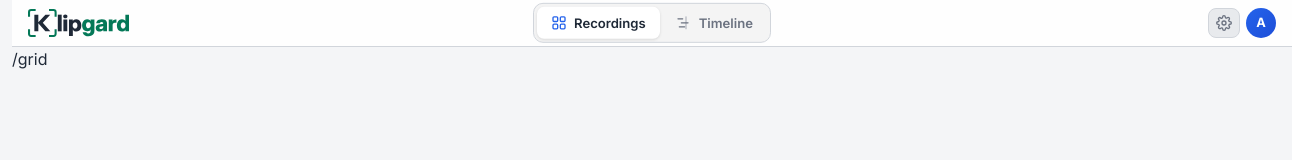
Scenario: Header nav [WEB-SHELL-071] › opens Settings from the gear and keeps Settings out of the account menu [WEB-SHELL-018]
Step 1. Click the button with test id "account-menu-button" → (1261, 23), box [1246,8,1276,38]
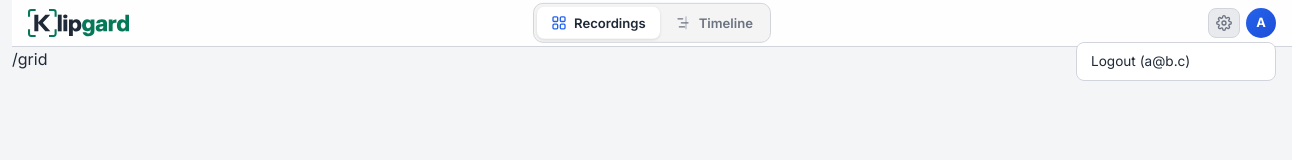
Expected: the menu item "settings" is not shown
Expected: the menu item "Logout (a@b.c)" is shown, [1077,43,1275,80]
Step 2. Click the link with test id "header-settings" → (1224, 23), box [1208,8,1240,38]
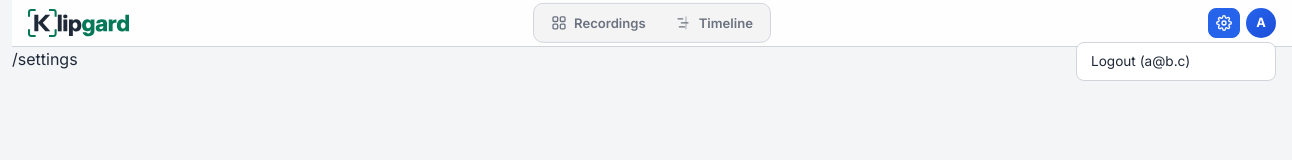
Expected: the text with test id "where" reads "/settings", [12,49,78,69]
